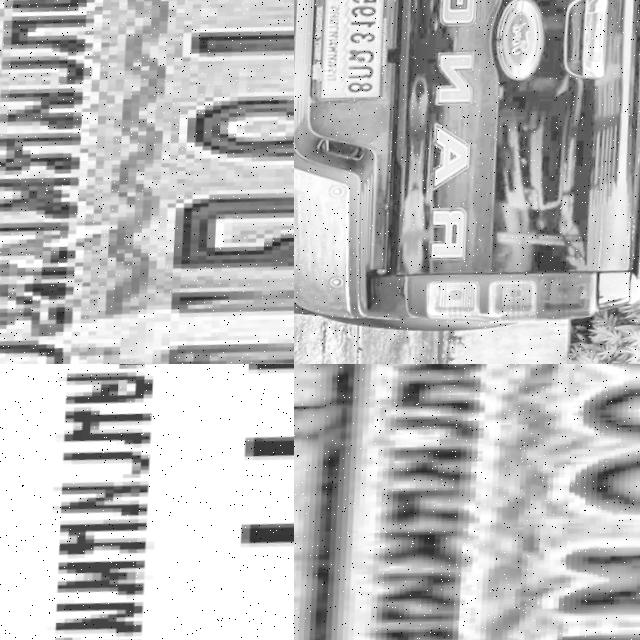license-plate: (0, 0, 294, 364), (309, 364, 640, 640), (0, 364, 294, 640), (304, 0, 393, 108)
